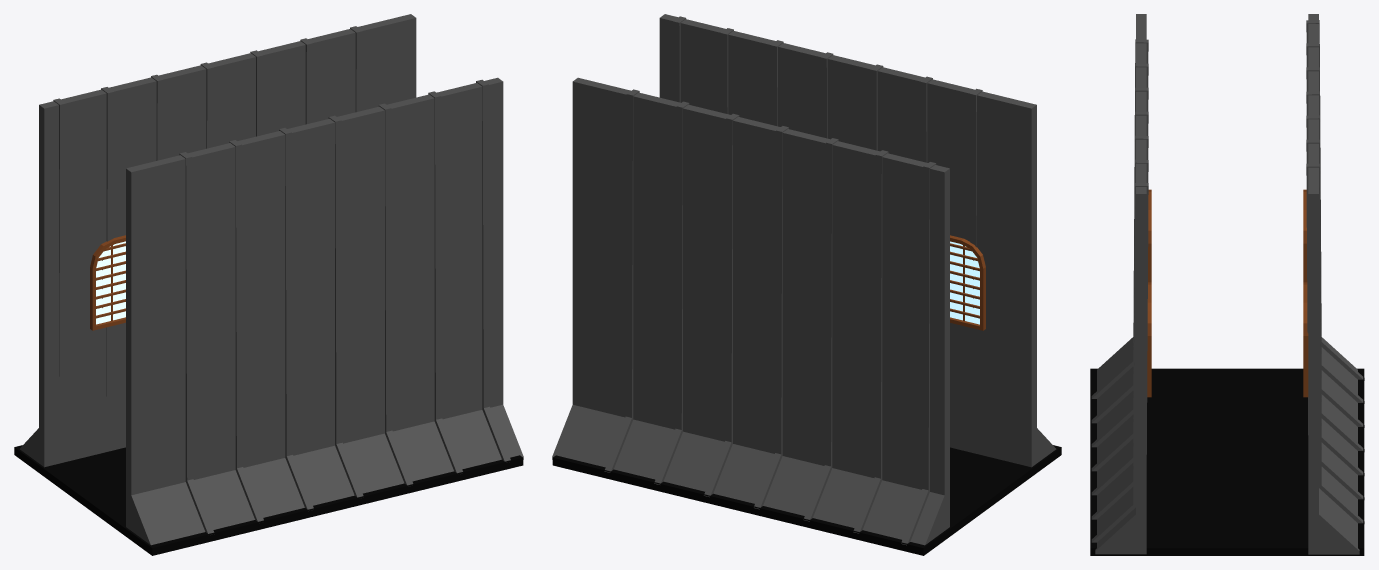
Rendered from ConnectionSection2.fbx.
3 views of the same model, side by side, from view 1: azimuth 30°, elevation 25°; view 2: azimuth 150°, elevation 25°; view 3: azimuth 270°, elevation 25° (orthographic).
Parts seen in each view (by area): view 1: ConnectionSection2; view 2: ConnectionSection2; view 3: ConnectionSection2.
Part boxes in pixels (x1,y1,x2,y2): ConnectionSection2: (14,14,523,555); ConnectionSection2: (552,14,1061,555); ConnectionSection2: (1090,14,1364,555).
Size of the model in its own units: 12021 by 11289 by 7696.
